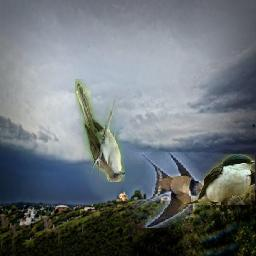Cuckoo: (75, 80, 125, 183)
Swallow: (134, 152, 204, 228), (185, 155, 256, 206)
